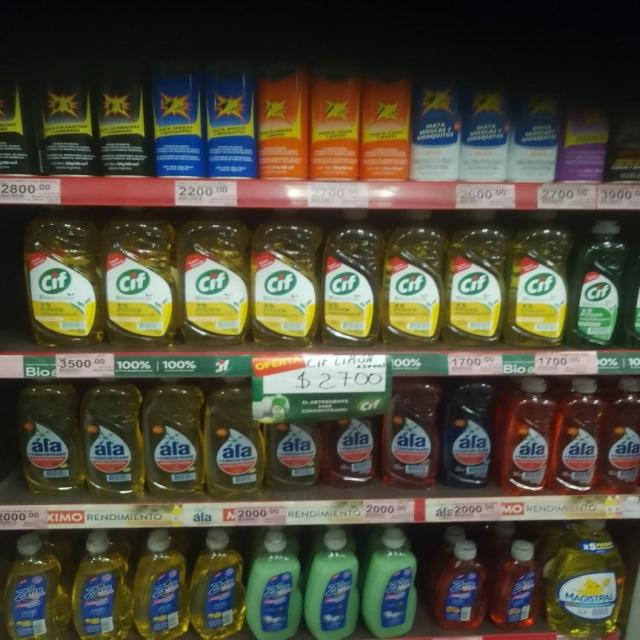ala_conc_amarillo: (16, 378, 80, 499), (205, 376, 265, 502), (83, 376, 143, 501), (145, 376, 203, 501), (267, 386, 321, 497)
ala_conc_azul: (442, 378, 497, 493)
ala_conc_rojo: (382, 376, 440, 492), (501, 376, 552, 496), (324, 386, 379, 493), (554, 377, 602, 496), (603, 376, 640, 493)
cif_conc_bot_amarilla: (24, 212, 100, 352), (104, 211, 176, 352), (180, 208, 249, 351), (252, 206, 320, 351), (384, 208, 444, 348), (510, 210, 570, 350), (322, 207, 381, 349), (447, 209, 506, 348)
cif_conc_botella_verde: (572, 219, 626, 350), (629, 221, 640, 350)
magistral_con_amarillo: (548, 520, 624, 638)
zorro: (2, 535, 65, 640), (364, 528, 421, 640), (71, 533, 130, 640), (191, 529, 245, 640), (305, 529, 359, 640), (133, 530, 187, 640), (248, 531, 301, 640), (431, 540, 487, 636), (491, 539, 542, 633)
